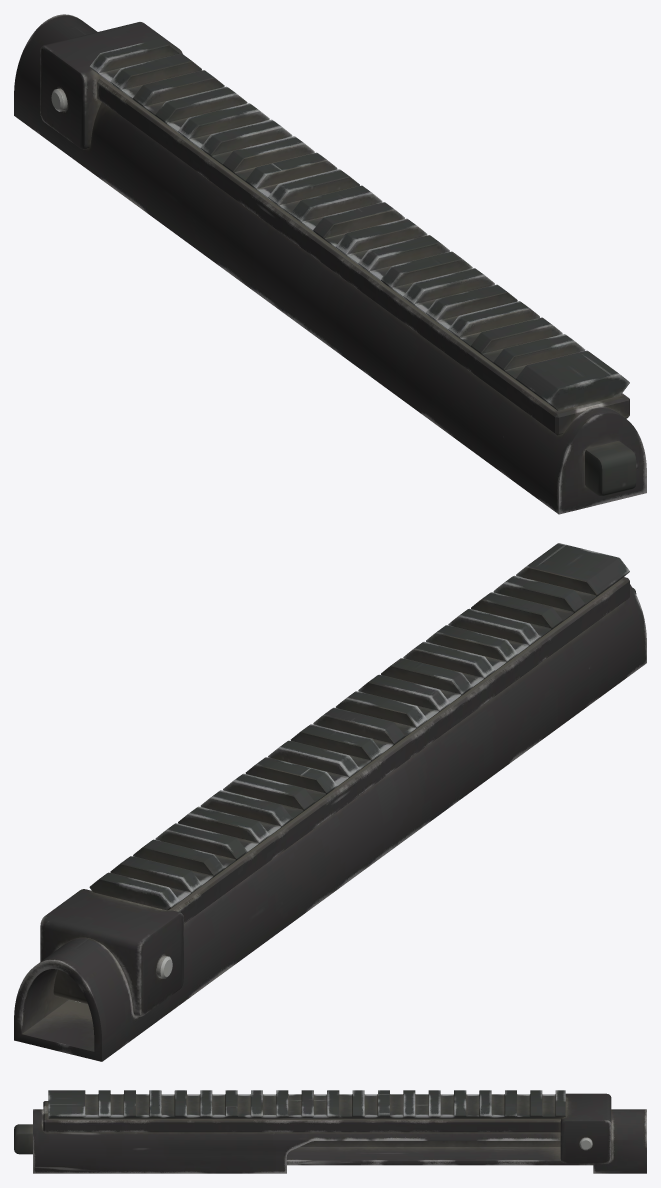
The model's file is tampa_trilho_ak_gasto.glb.
3 renders of one model, top to bottom at view 1: azimuth 30°, elevation 25°; view 2: azimuth 150°, elevation 25°; view 3: azimuth 270°, elevation 25°, orthographic. The views are drawn at different scales.
Parts seen in each view (by area): view 1: tampa_trilho_ak_gasto_tampa; view 2: tampa_trilho_ak_gasto_tampa; view 3: tampa_trilho_ak_gasto_tampa.
Part boxes in pixels (bbox=[...]): tampa_trilho_ak_gasto_tampa: bbox=[14, 14, 646, 514]; tampa_trilho_ak_gasto_tampa: bbox=[14, 543, 646, 1061]; tampa_trilho_ak_gasto_tampa: bbox=[14, 1090, 646, 1173].
Bounding box in the file's own units: 0.0288 × 0.0275 × 0.2495.
Materials: 1 (1 with a texture image).
